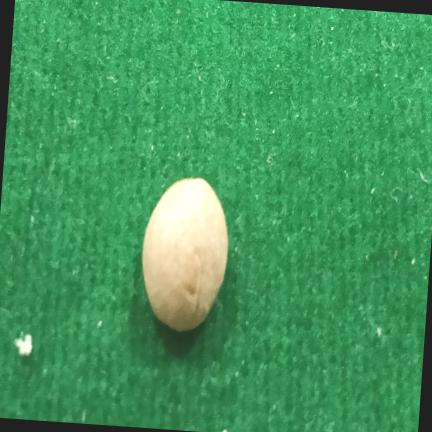good: (142, 177, 228, 331)
